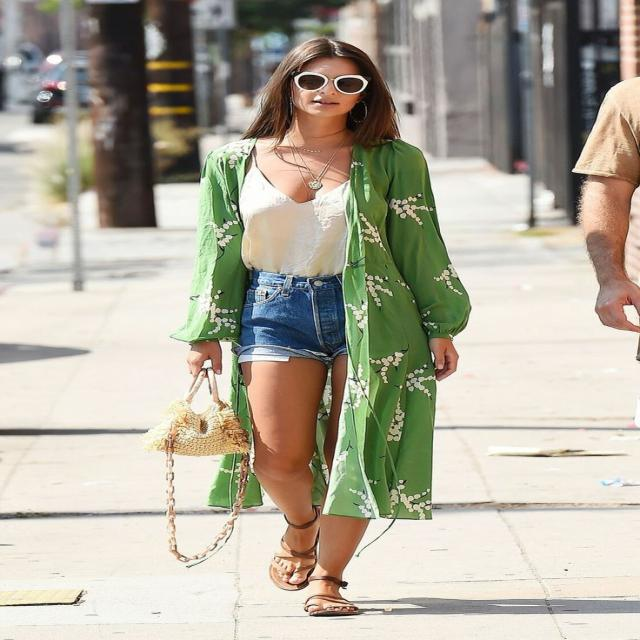female-dress: (204, 121, 463, 544)
